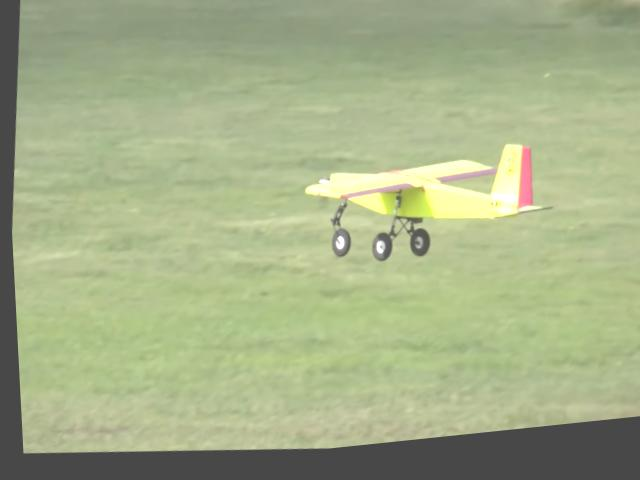plane: (294, 134, 556, 291)
